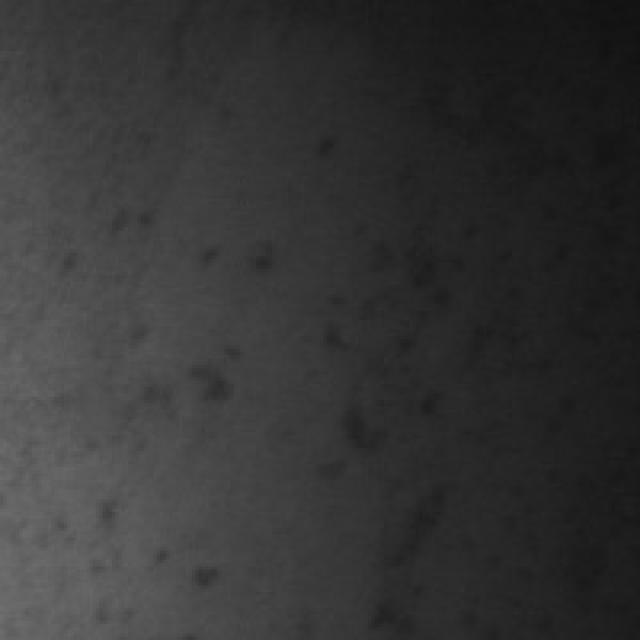pitted_surface: (42, 180, 243, 614), (320, 188, 467, 634)
